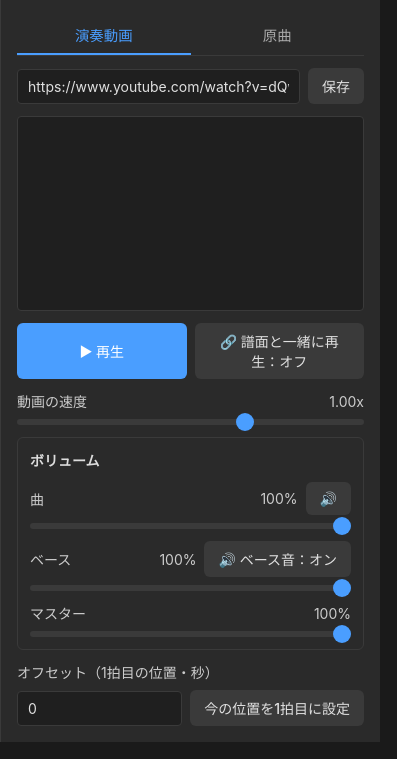
Test: bass sound toggle is saved per song and reported to the score
The image size is (397, 759).
Step 1. Click the button "🔊 ベース音：オン" → (278, 559), box [204,541,351,577]
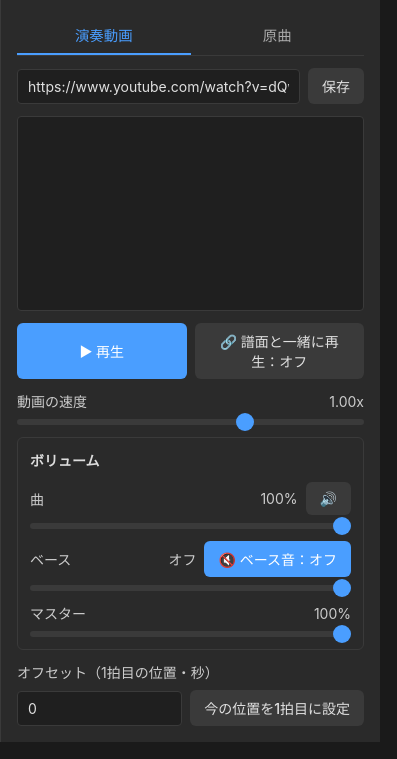
Expected: the slider named "ベースの音量" is enabled, [30,585,351,591]
Expected: the element named "ベースの音量" shows "オフ", [168,551,196,568]
